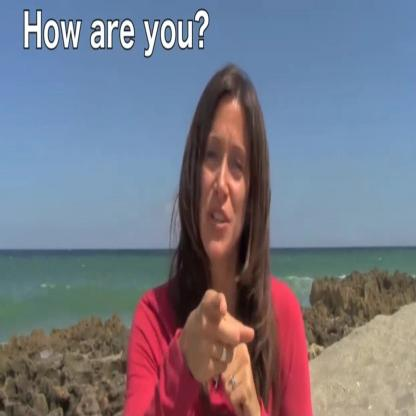HowAreYou: (182, 274, 253, 416)
